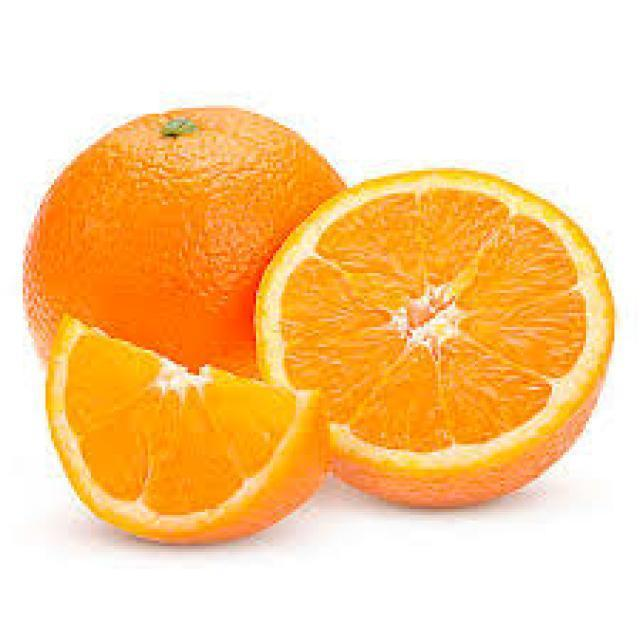non-mango: (253, 166, 616, 509), (21, 104, 348, 381), (43, 313, 327, 545)
